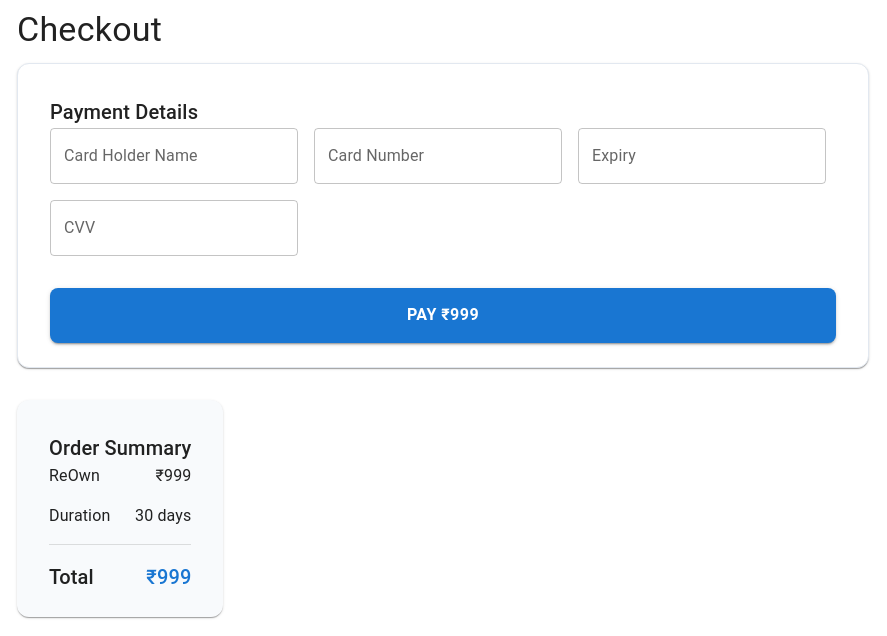
it: Checkout Component › formats card number input
The width and height of the screenshot is (887, 636).
Type "1234567890123456" into the field labelled "Card Number" at coordinates (438, 156), box [314, 128, 562, 184]
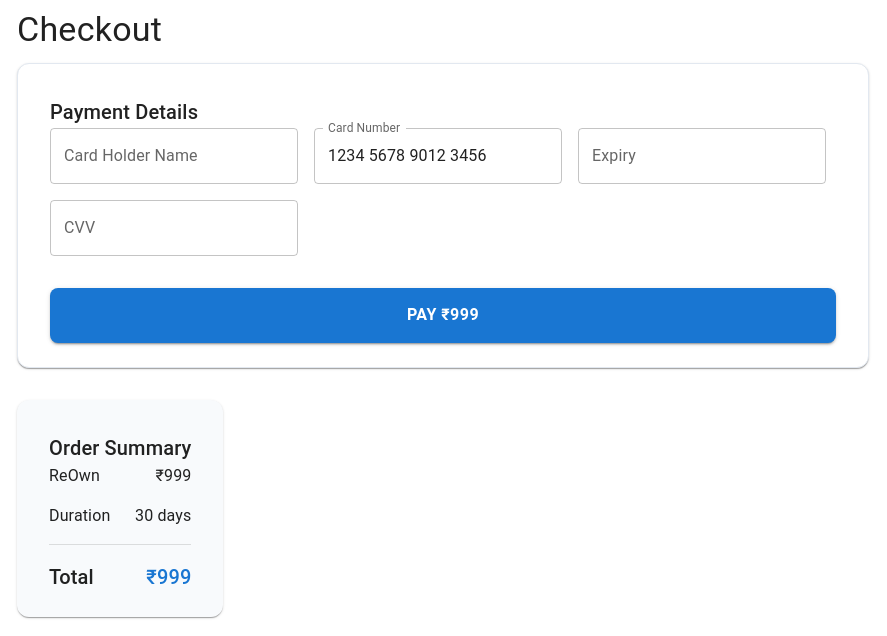
Check: the field labelled "Card Number" holds "1234 5678 9012 3456", box [314, 128, 562, 184]
